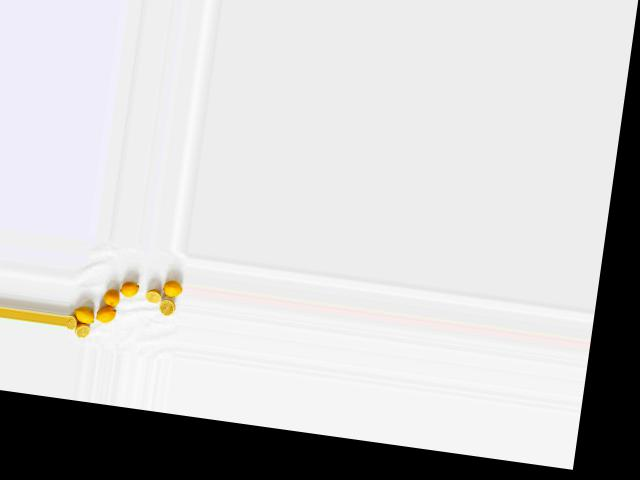lemon: (71, 302, 102, 326)
